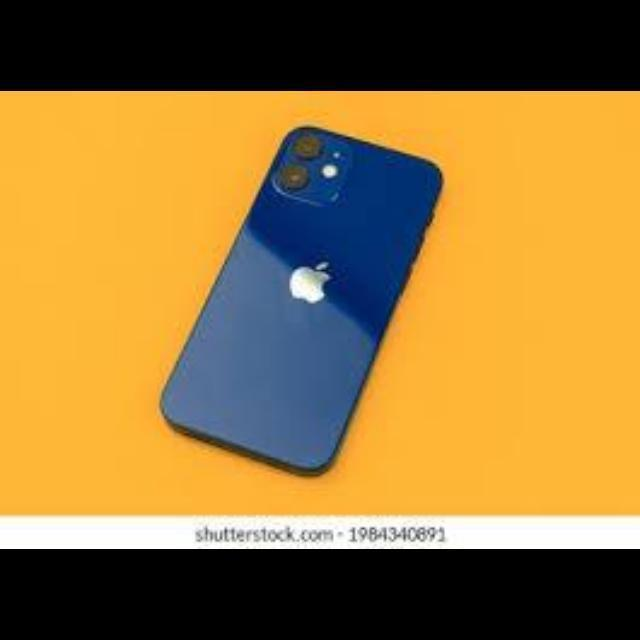phone: (150, 125, 442, 483)
